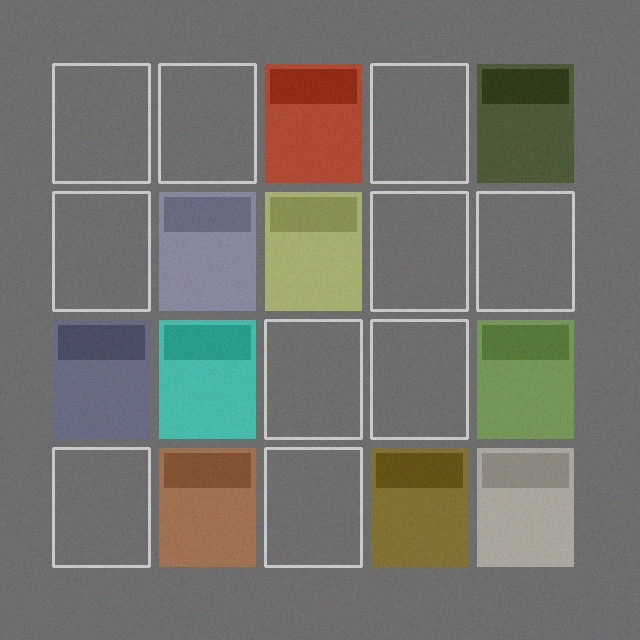space-empty: (53, 64, 149, 182), (159, 64, 255, 182), (371, 64, 467, 182), (53, 192, 149, 310), (371, 192, 467, 310), (477, 192, 573, 310), (265, 320, 361, 438), (371, 320, 467, 438), (53, 448, 149, 566), (265, 448, 361, 566)
space-occupied: (265, 64, 361, 182), (477, 64, 573, 182), (159, 192, 255, 310), (265, 192, 361, 310), (53, 320, 149, 438), (159, 320, 255, 438), (477, 320, 573, 438), (159, 448, 255, 566), (371, 448, 467, 566), (477, 448, 573, 566)
